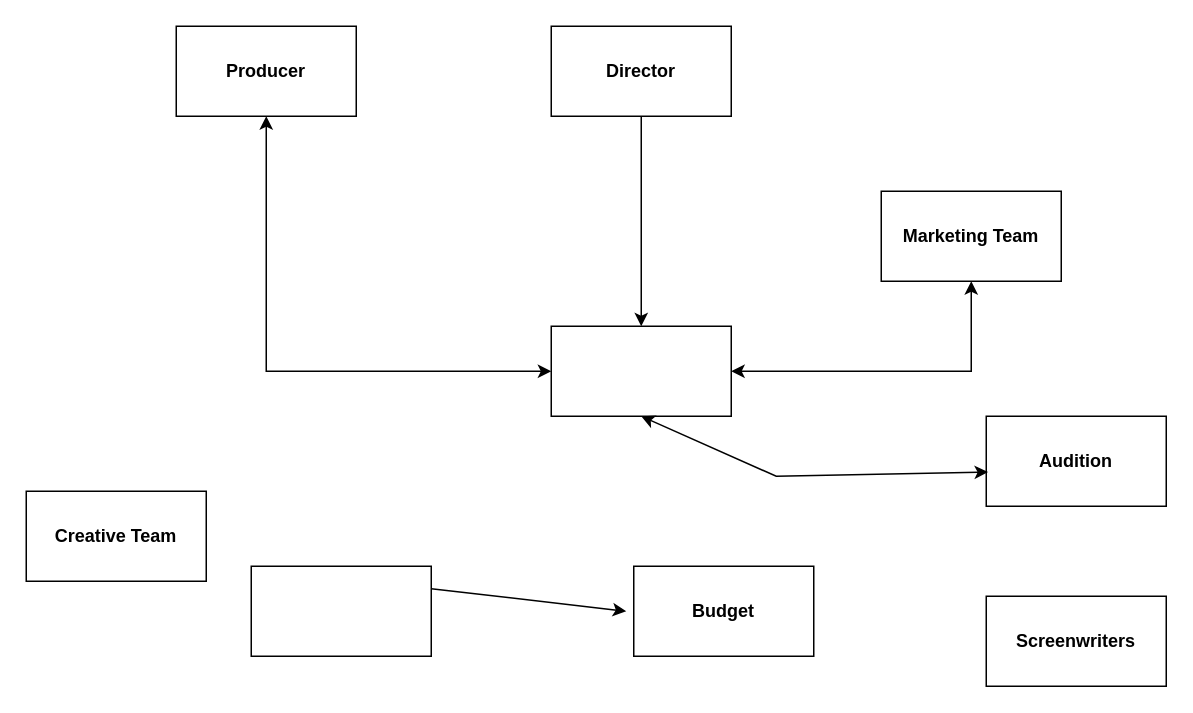
This 1193x713 diagram has some shape labels left out. Each missing label, with the box of its shape:
Film: (550, 325, 731, 416)
Finance Team: (250, 565, 431, 656)
